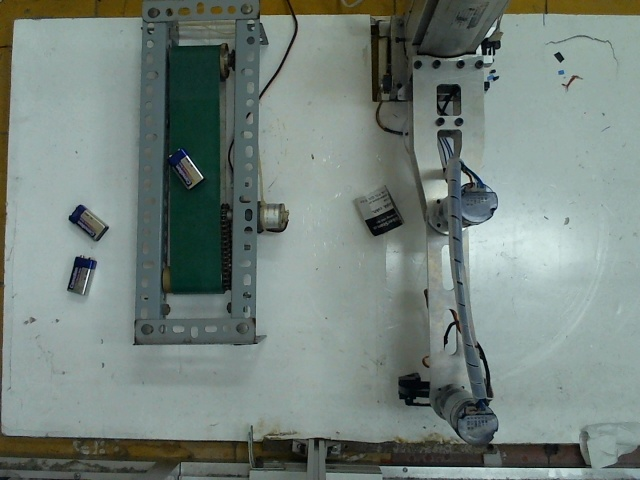battery: (163, 146, 213, 190), (57, 259, 103, 300), (67, 203, 107, 238)
